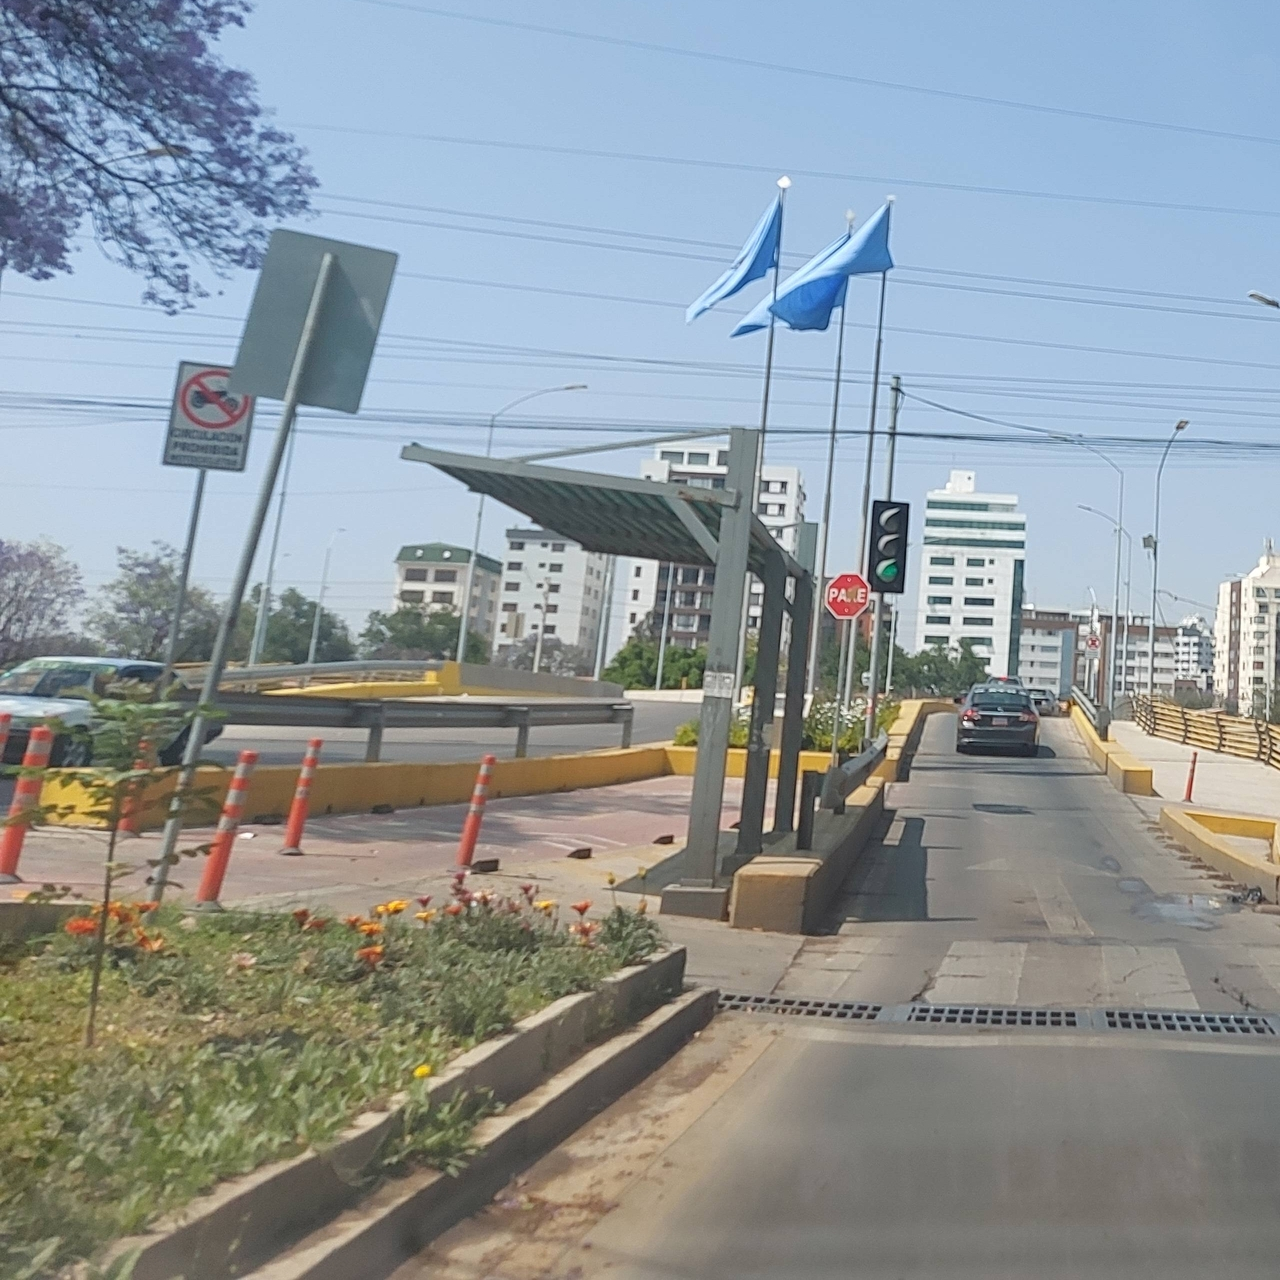pare: (824, 571, 870, 620)
